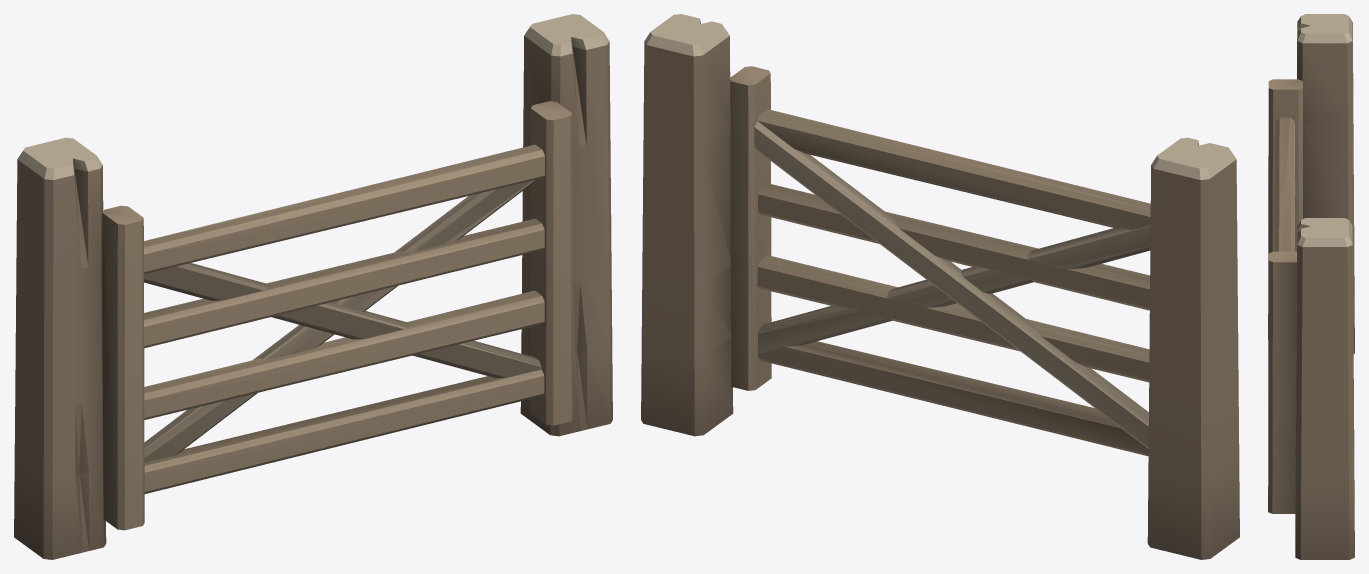
The model's file is gate.glb.
3 views of the same model, side by side, from view 1: azimuth 30°, elevation 25°; view 2: azimuth 150°, elevation 25°; view 3: azimuth 270°, elevation 25° (orthographic). The views are drawn at different scales.
Parts seen in each view (by area): view 1: gate; view 2: gate; view 3: gate.
Boxes of the visible parts, x1,y1,x2,y2 form: gate: (14,14,612,559); gate: (641,14,1239,559); gate: (1268,14,1354,559).
Bounding box in the file's own units: 2.6 × 1.69 × 0.416.
